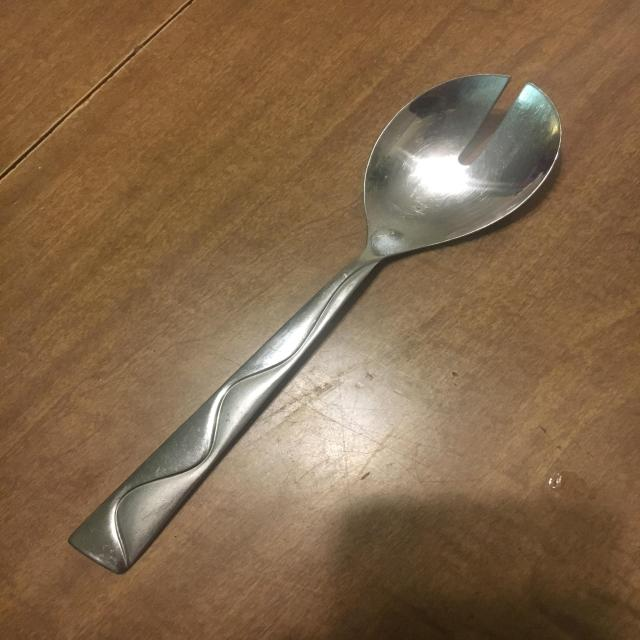spoon: (65, 59, 581, 571)
